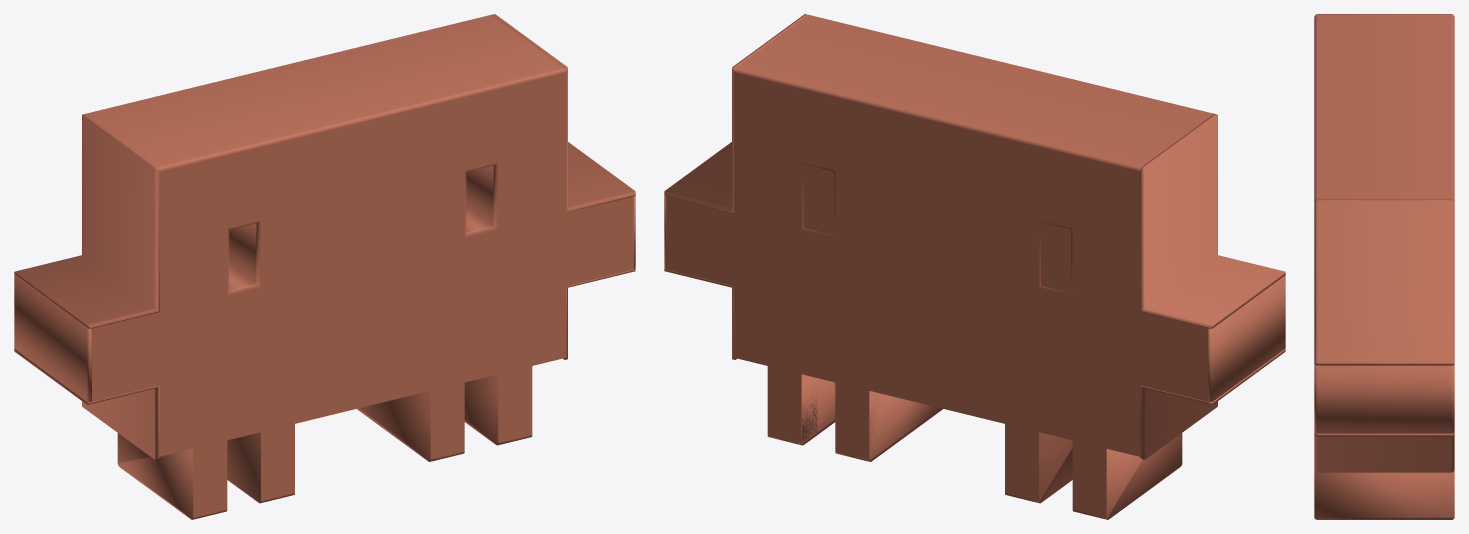
File: claudecode.glb
The picture shows the model from 3 angles, left to right: view 1: azimuth 30°, elevation 25°; view 2: azimuth 150°, elevation 25°; view 3: azimuth 270°, elevation 25°; orthographic projection. The views are drawn at different scales.
Visible parts, largest first — view 1: claudecode_canonical_body, claudecode_canonical_flank_upper, claudecode_canonical_arm, claudecode_canonical_foot, claudecode_canonical_foot.002, claudecode_canonical_arm.001, claudecode_canonical_foot.003, claudecode_canonical_foot.001, claudecode_canonical_flank_lower, claudecode_canonical_flank_upper.001; view 2: claudecode_canonical_body, claudecode_canonical_flank_upper, claudecode_canonical_arm, claudecode_canonical_foot, claudecode_canonical_foot.002, claudecode_canonical_arm.001, claudecode_canonical_foot.003, claudecode_canonical_foot.001, claudecode_canonical_flank_lower, claudecode_canonical_flank_upper.001; view 3: claudecode_canonical_body, claudecode_canonical_flank_upper.001, claudecode_canonical_arm.001, claudecode_canonical_foot.003, claudecode_canonical_flank_lower.001, claudecode_canonical_flank_upper.
Part boxes in pixels (x1,y1,x2,y2): claudecode_canonical_body: [85, 14, 565, 456]; claudecode_canonical_flank_upper: [14, 114, 159, 328]; claudecode_canonical_arm: [14, 275, 159, 401]; claudecode_canonical_foot: [117, 433, 227, 519]; claudecode_canonical_foot.002: [357, 382, 464, 461]; claudecode_canonical_arm.001: [566, 195, 635, 285]; claudecode_canonical_foot.003: [464, 366, 532, 445]; claudecode_canonical_foot.001: [227, 424, 294, 503]; claudecode_canonical_flank_lower: [14, 348, 159, 459]; claudecode_canonical_flank_upper.001: [492, 14, 635, 212]; claudecode_canonical_body: [734, 14, 1214, 456]; claudecode_canonical_flank_upper: [1140, 114, 1285, 328]; claudecode_canonical_arm: [1140, 275, 1285, 401]; claudecode_canonical_foot: [1072, 433, 1182, 519]; claudecode_canonical_foot.002: [835, 382, 942, 461]; claudecode_canonical_arm.001: [664, 195, 733, 285]; claudecode_canonical_foot.003: [767, 366, 835, 445]; claudecode_canonical_foot.001: [1005, 424, 1072, 503]; claudecode_canonical_flank_lower: [1140, 348, 1285, 459]; claudecode_canonical_flank_upper.001: [664, 14, 807, 212]; claudecode_canonical_body: [1314, 15, 1454, 201]; claudecode_canonical_flank_upper.001: [1314, 199, 1454, 365]; claudecode_canonical_arm.001: [1314, 365, 1454, 433]; claudecode_canonical_foot.003: [1314, 470, 1454, 519]; claudecode_canonical_flank_lower.001: [1314, 433, 1454, 472]; claudecode_canonical_flank_upper: [1314, 14, 1454, 16].
Bounding box in the file's own units: 1.01 × 0.6369 × 0.242.
